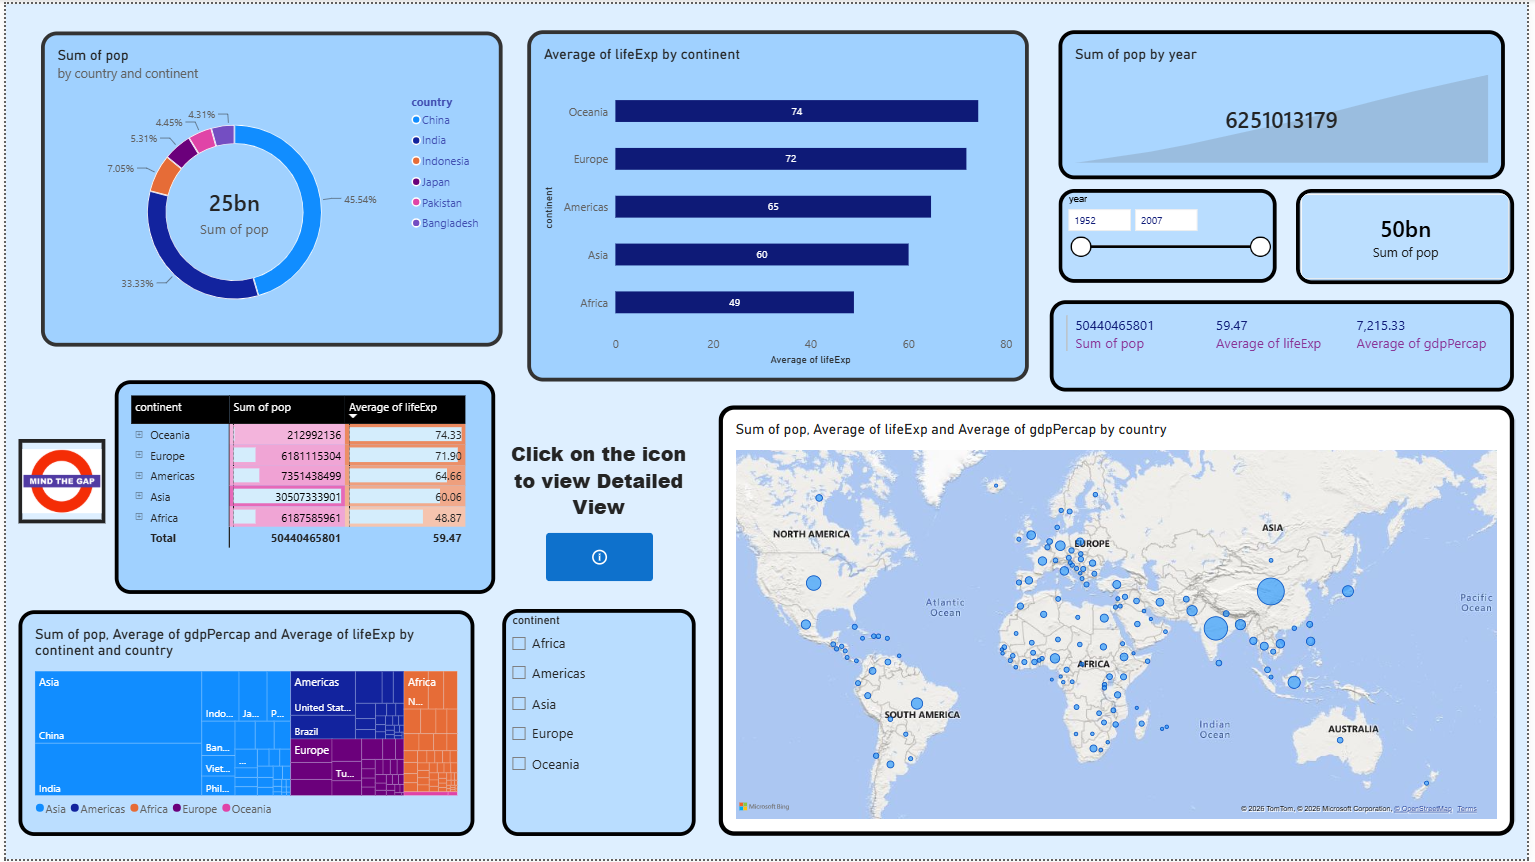

This screenshot's page, from the dashboard's own definition file:
{"tool":"powerbi","page":{"name":"Page 1","canvas":[1920,1080],"ordinal":0},"visuals":[{"type":"donutChart","fields":{"Category":["gapminder.country"],"Series":["gapminder.continent"],"Y":["Sum(gapminder.pop)"]},"box":[44.9,34.5,582.6,397.7],"z":0},{"type":"barChart","fields":{"Category":["gapminder.continent"],"Y":["Avg(gapminder.lifeExp)"]},"box":[657.6,33.1,633.1,443],"z":1000},{"type":"pivotTable","fields":{"Rows":["gapminder.continent","gapminder.country"],"Values":["Sum(gapminder.pop)","Avg(gapminder.lifeExp)"]},"box":[137.8,475.2,480,269.3],"z":2000},{"type":"slicer","fields":{"Values":["gapminder.year"]},"box":[1327.3,233.7,275.6,118.6],"z":3000},{"type":"cardVisual","fields":{"Data":["Sum(gapminder.pop)"]},"box":[1627.3,233.7,275.6,120.3],"z":4000},{"type":"multiRowCard","fields":{"Values":["Sum(gapminder.pop)","Avg(gapminder.lifeExp)","Avg(gapminder.gdpPercap)"]},"box":[1316.9,373.3,585.4,115.3],"z":5000},{"type":"kpi","fields":{"Indicator":["Sum(gapminder.pop)"],"TrendLine":["gapminder.year"]},"box":[1327.3,33.1,563.4,188.4],"z":6000},{"type":"slicer","fields":{"Values":["gapminder.continent"]},"box":[626.8,763.7,244,286.7],"z":7000},{"type":"map","fields":{"Category":["gapminder.country"],"Size":["Sum(gapminder.pop)"]},"box":[898.2,506.9,1004.4,543.4],"z":8000},{"type":"treemap","fields":{"Details":["gapminder.country"],"Group":["gapminder.continent"],"Values":["Sum(gapminder.pop)"]},"box":[15.8,765.1,575,285.1],"z":9000},{"type":"actionButton","box":[680.8,666.4,135.1,61.2],"z":10000},{"type":"textbox","box":[100,100,300,300],"z":11000},{"type":"textbox","box":[772,476,150,253],"z":12000},{"type":"textbox","box":[772,476,150,253],"z":13000},{"type":"textbox","box":[772,476,150,253],"z":14000},{"type":"textbox","box":[772,476,150,253],"z":15000},{"type":"textbox","box":[626.8,551.1,243.2,115.3],"z":16000},{"type":"image","box":[16.2,549.3,109.9,106.3],"z":17000}]}

Visuals, with their boxes in screenshot pixels (x1, y1, x2, y2), scaled from the page's 1920x1080 canvas onto the 1535x862 screenshot:
donutChart - gapminder.country x gapminder.continent: select_region(36, 28, 502, 345)
barChart - gapminder.continent x Avg(gapminder.lifeExp): select_region(526, 26, 1032, 380)
pivotTable - gapminder.continent x gapminder.country: select_region(110, 379, 494, 594)
slicer - gapminder.year: select_region(1061, 187, 1281, 281)
cardVisual - Sum(gapminder.pop): select_region(1301, 187, 1521, 283)
multiRowCard - Sum(gapminder.pop) x Avg(gapminder.lifeExp): select_region(1053, 298, 1521, 390)
kpi - Sum(gapminder.pop) x gapminder.year: select_region(1061, 26, 1512, 177)
slicer - gapminder.continent: select_region(501, 610, 696, 838)
map - gapminder.country x Sum(gapminder.pop): select_region(718, 405, 1521, 838)
treemap - gapminder.country x gapminder.continent: select_region(13, 611, 472, 838)
actionButton: select_region(544, 532, 652, 581)
textbox: select_region(80, 80, 320, 319)
textbox: select_region(617, 380, 737, 582)
textbox: select_region(617, 380, 737, 582)
textbox: select_region(617, 380, 737, 582)
textbox: select_region(617, 380, 737, 582)
textbox: select_region(501, 440, 696, 532)
image: select_region(13, 438, 101, 523)
